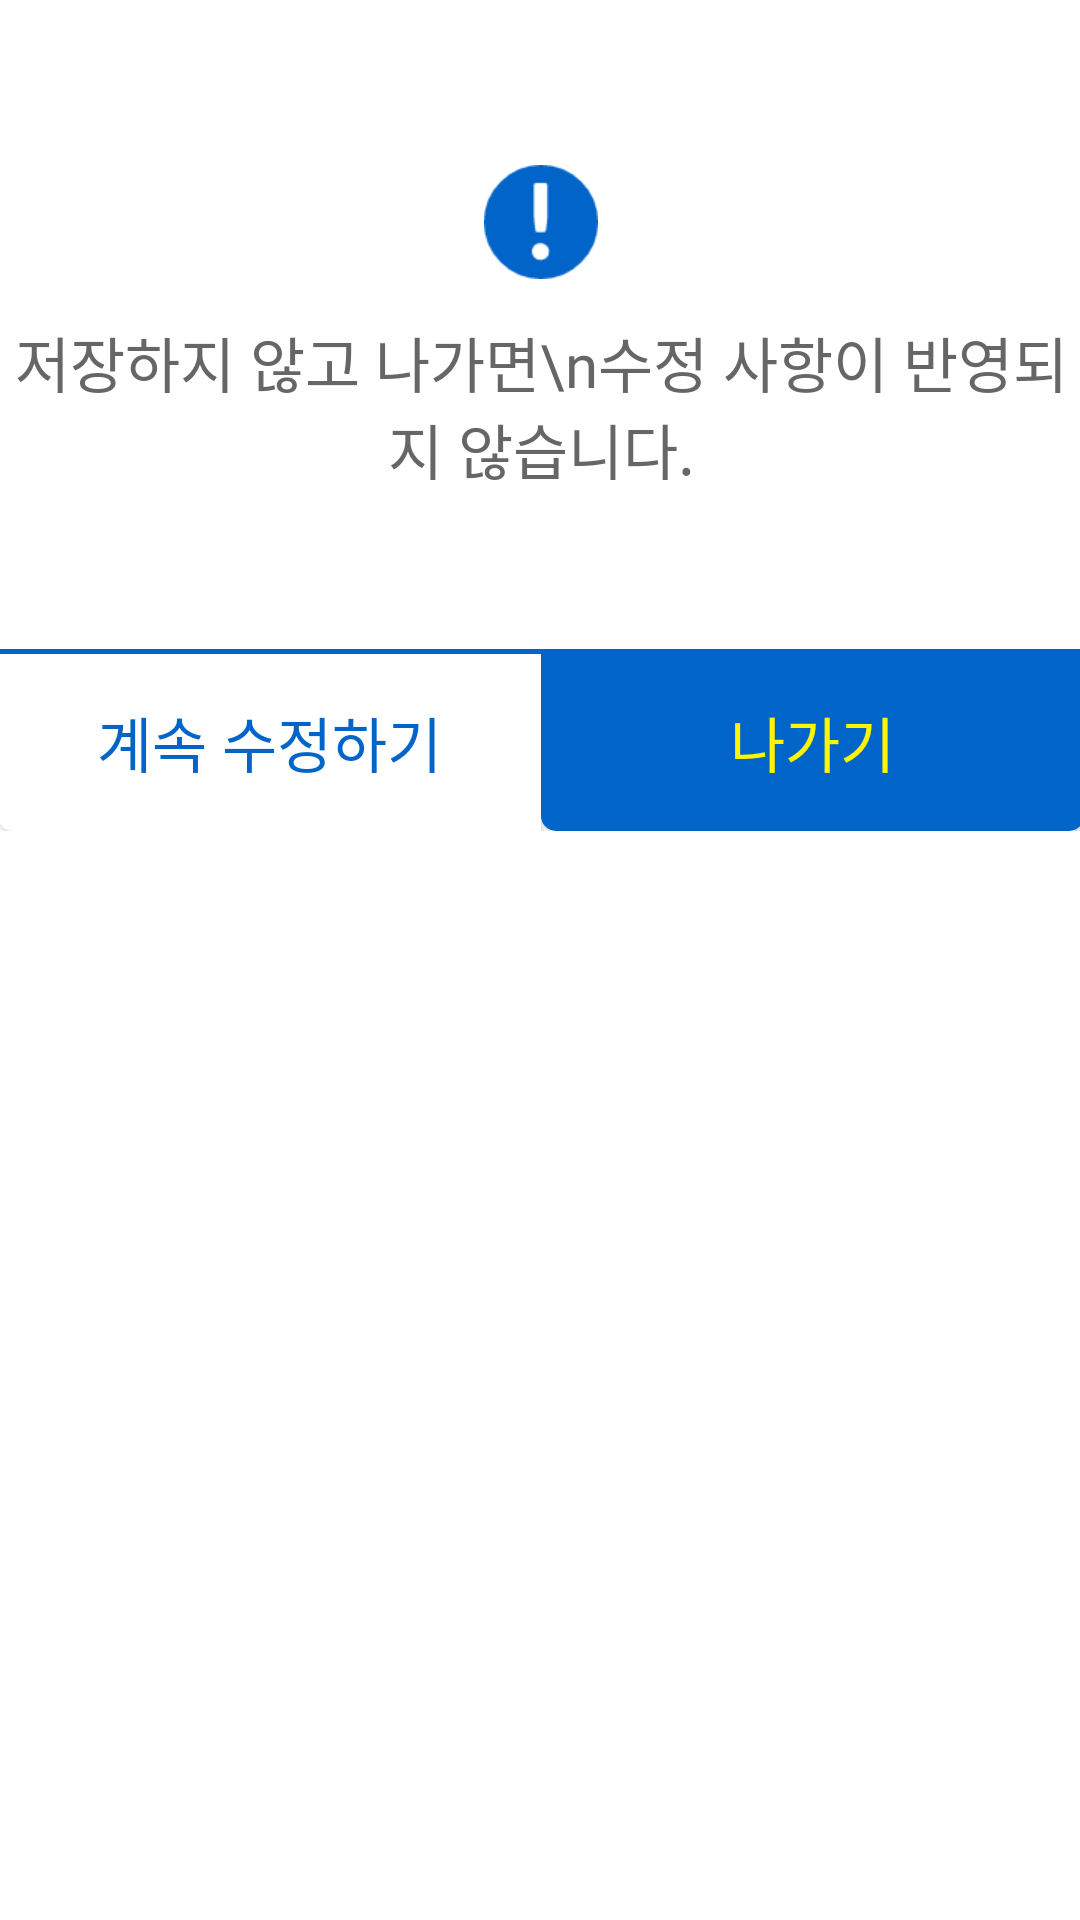

Named icons in this screenshot (1080w x 1920h) and their centers, point (x, y):
warning: point (541, 222)
